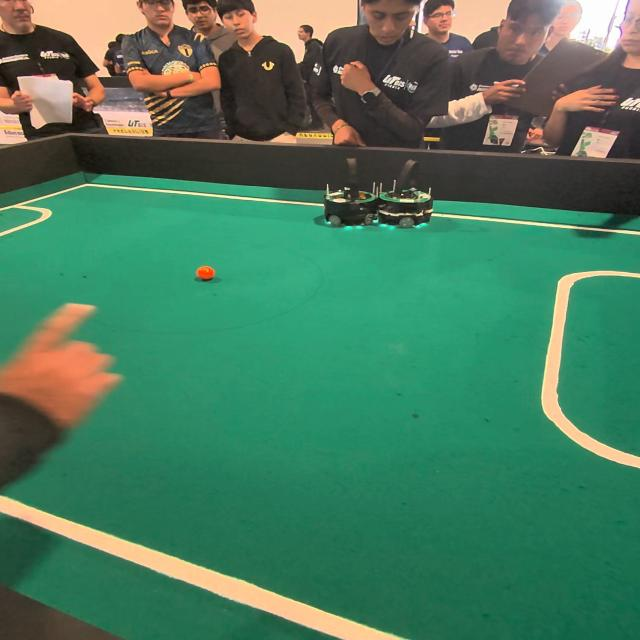Robot: (316, 154, 381, 238), (376, 155, 435, 238)
pelota: (194, 262, 219, 284)
